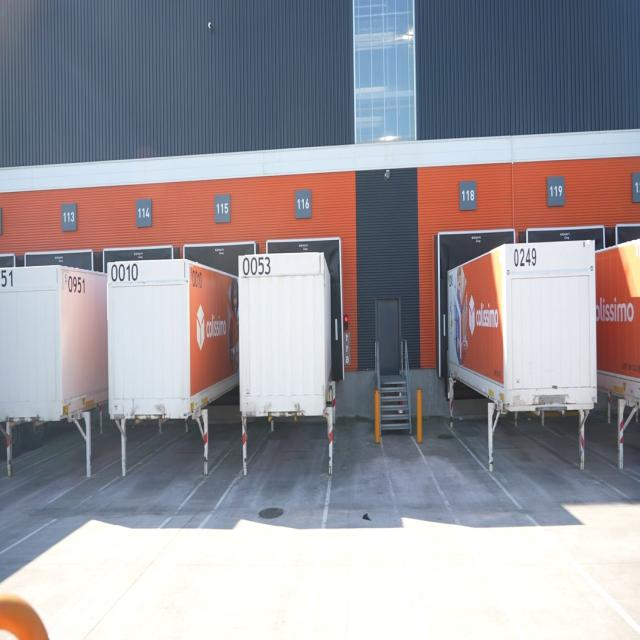Code: (237, 252, 273, 282), (510, 244, 540, 271), (108, 261, 139, 284), (66, 271, 90, 298), (188, 266, 206, 290)
